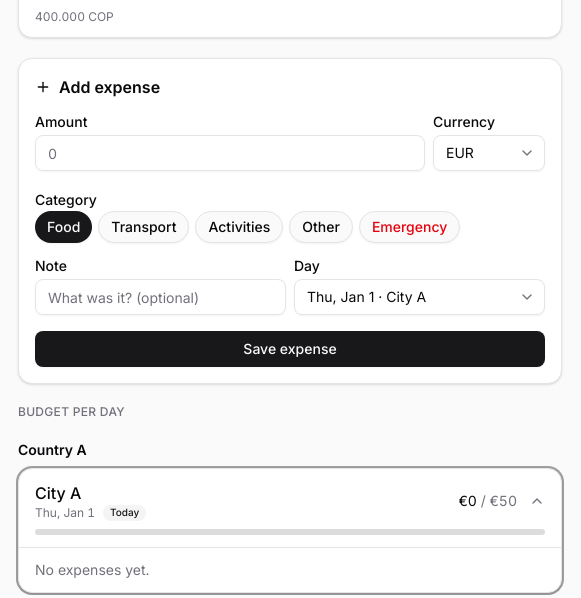
Scenario: adding expenses › rejects an empty or zero amount
(page scrolled)
Step 1. Click the button "Save expense" → (290,349), box top-left (35, 331), bottom-right (545, 367)
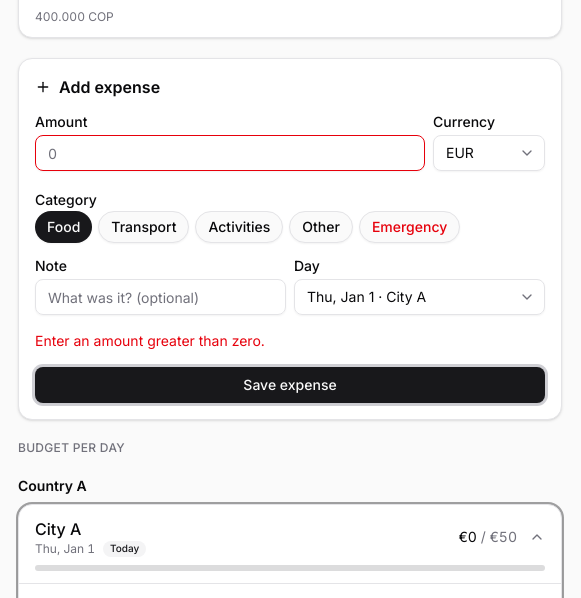
expect the message reads "Enter an amount greater than zero.": met, box top-left (35, 332), bottom-right (265, 349)
